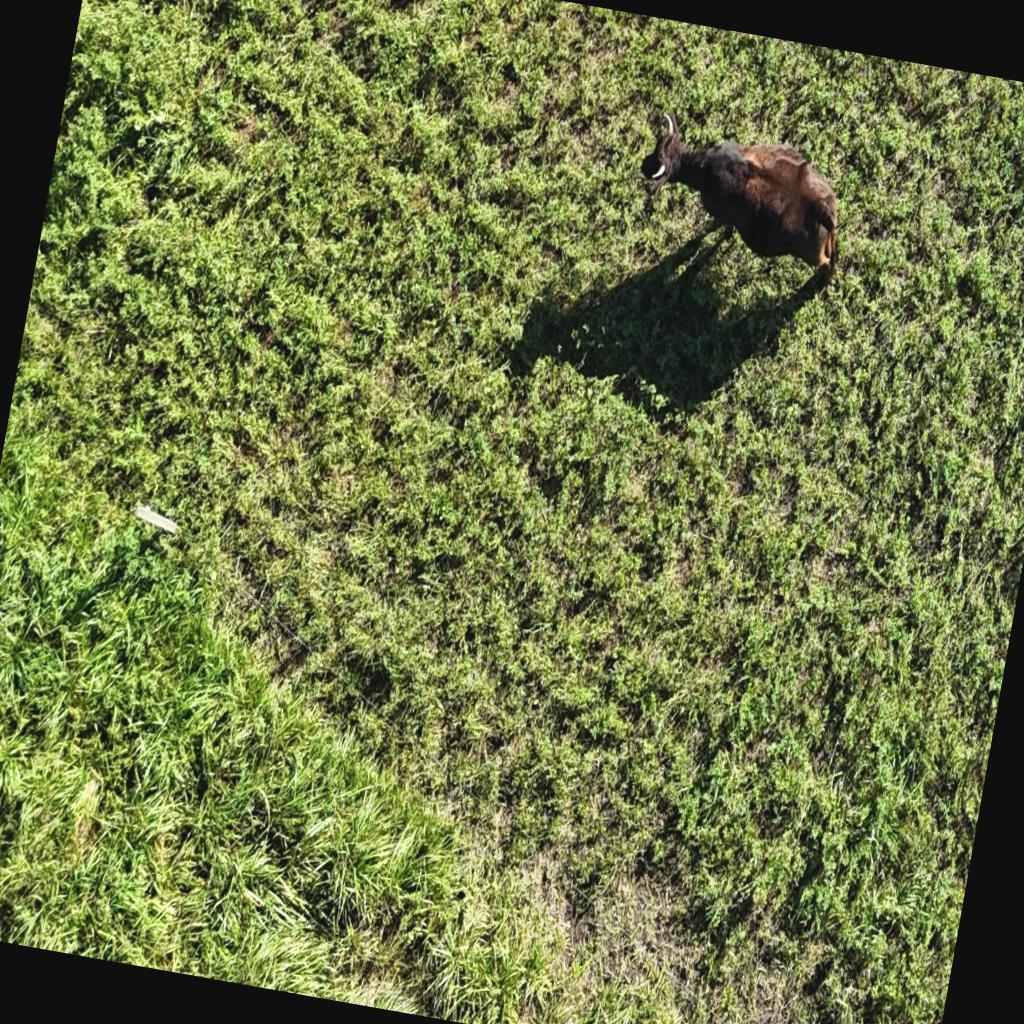cow: (598, 92, 864, 342)
